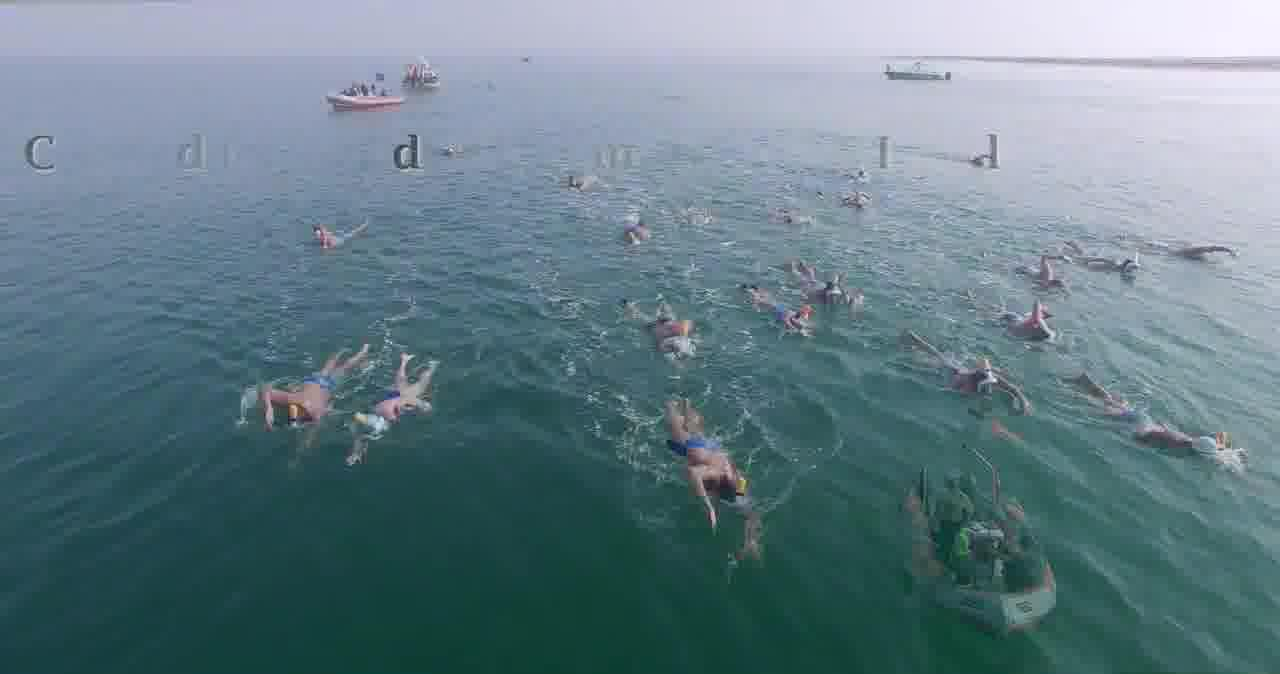human: (671, 388, 761, 556), (1083, 376, 1239, 456), (253, 340, 373, 428), (369, 352, 449, 440), (941, 349, 1031, 413), (621, 300, 686, 368), (992, 304, 1065, 346), (311, 208, 369, 258), (1011, 255, 1064, 300), (789, 270, 847, 307), (1165, 242, 1232, 270)
